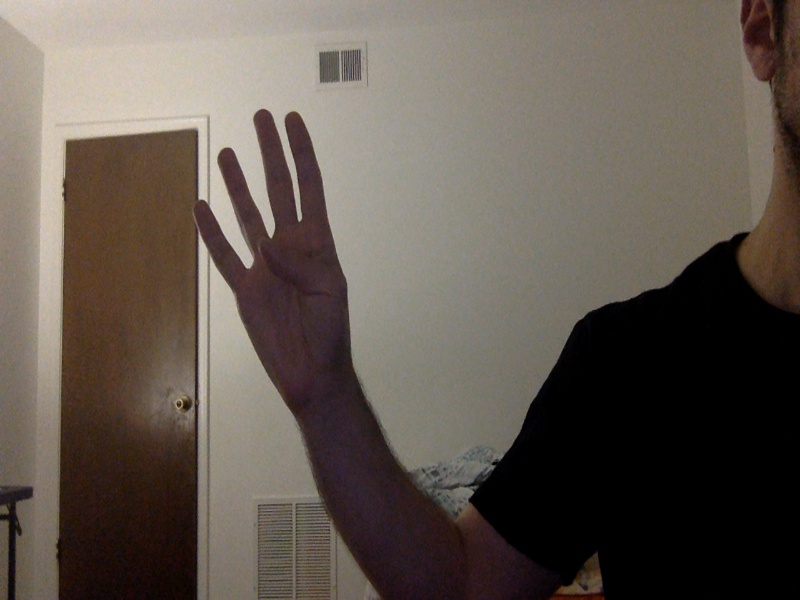4-hand: (192, 109, 351, 426)
